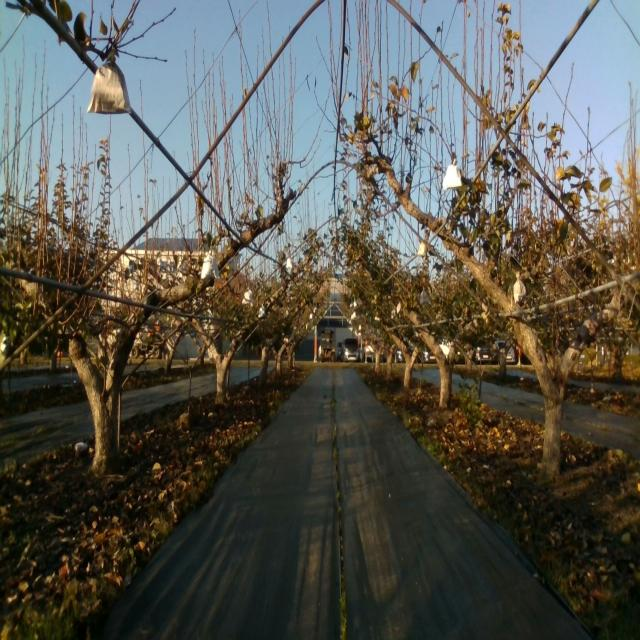pearbags: (88, 56, 129, 110), (442, 158, 462, 192), (200, 252, 219, 282), (514, 272, 526, 302), (241, 286, 254, 308)
